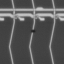dust: (29, 27, 36, 33)
